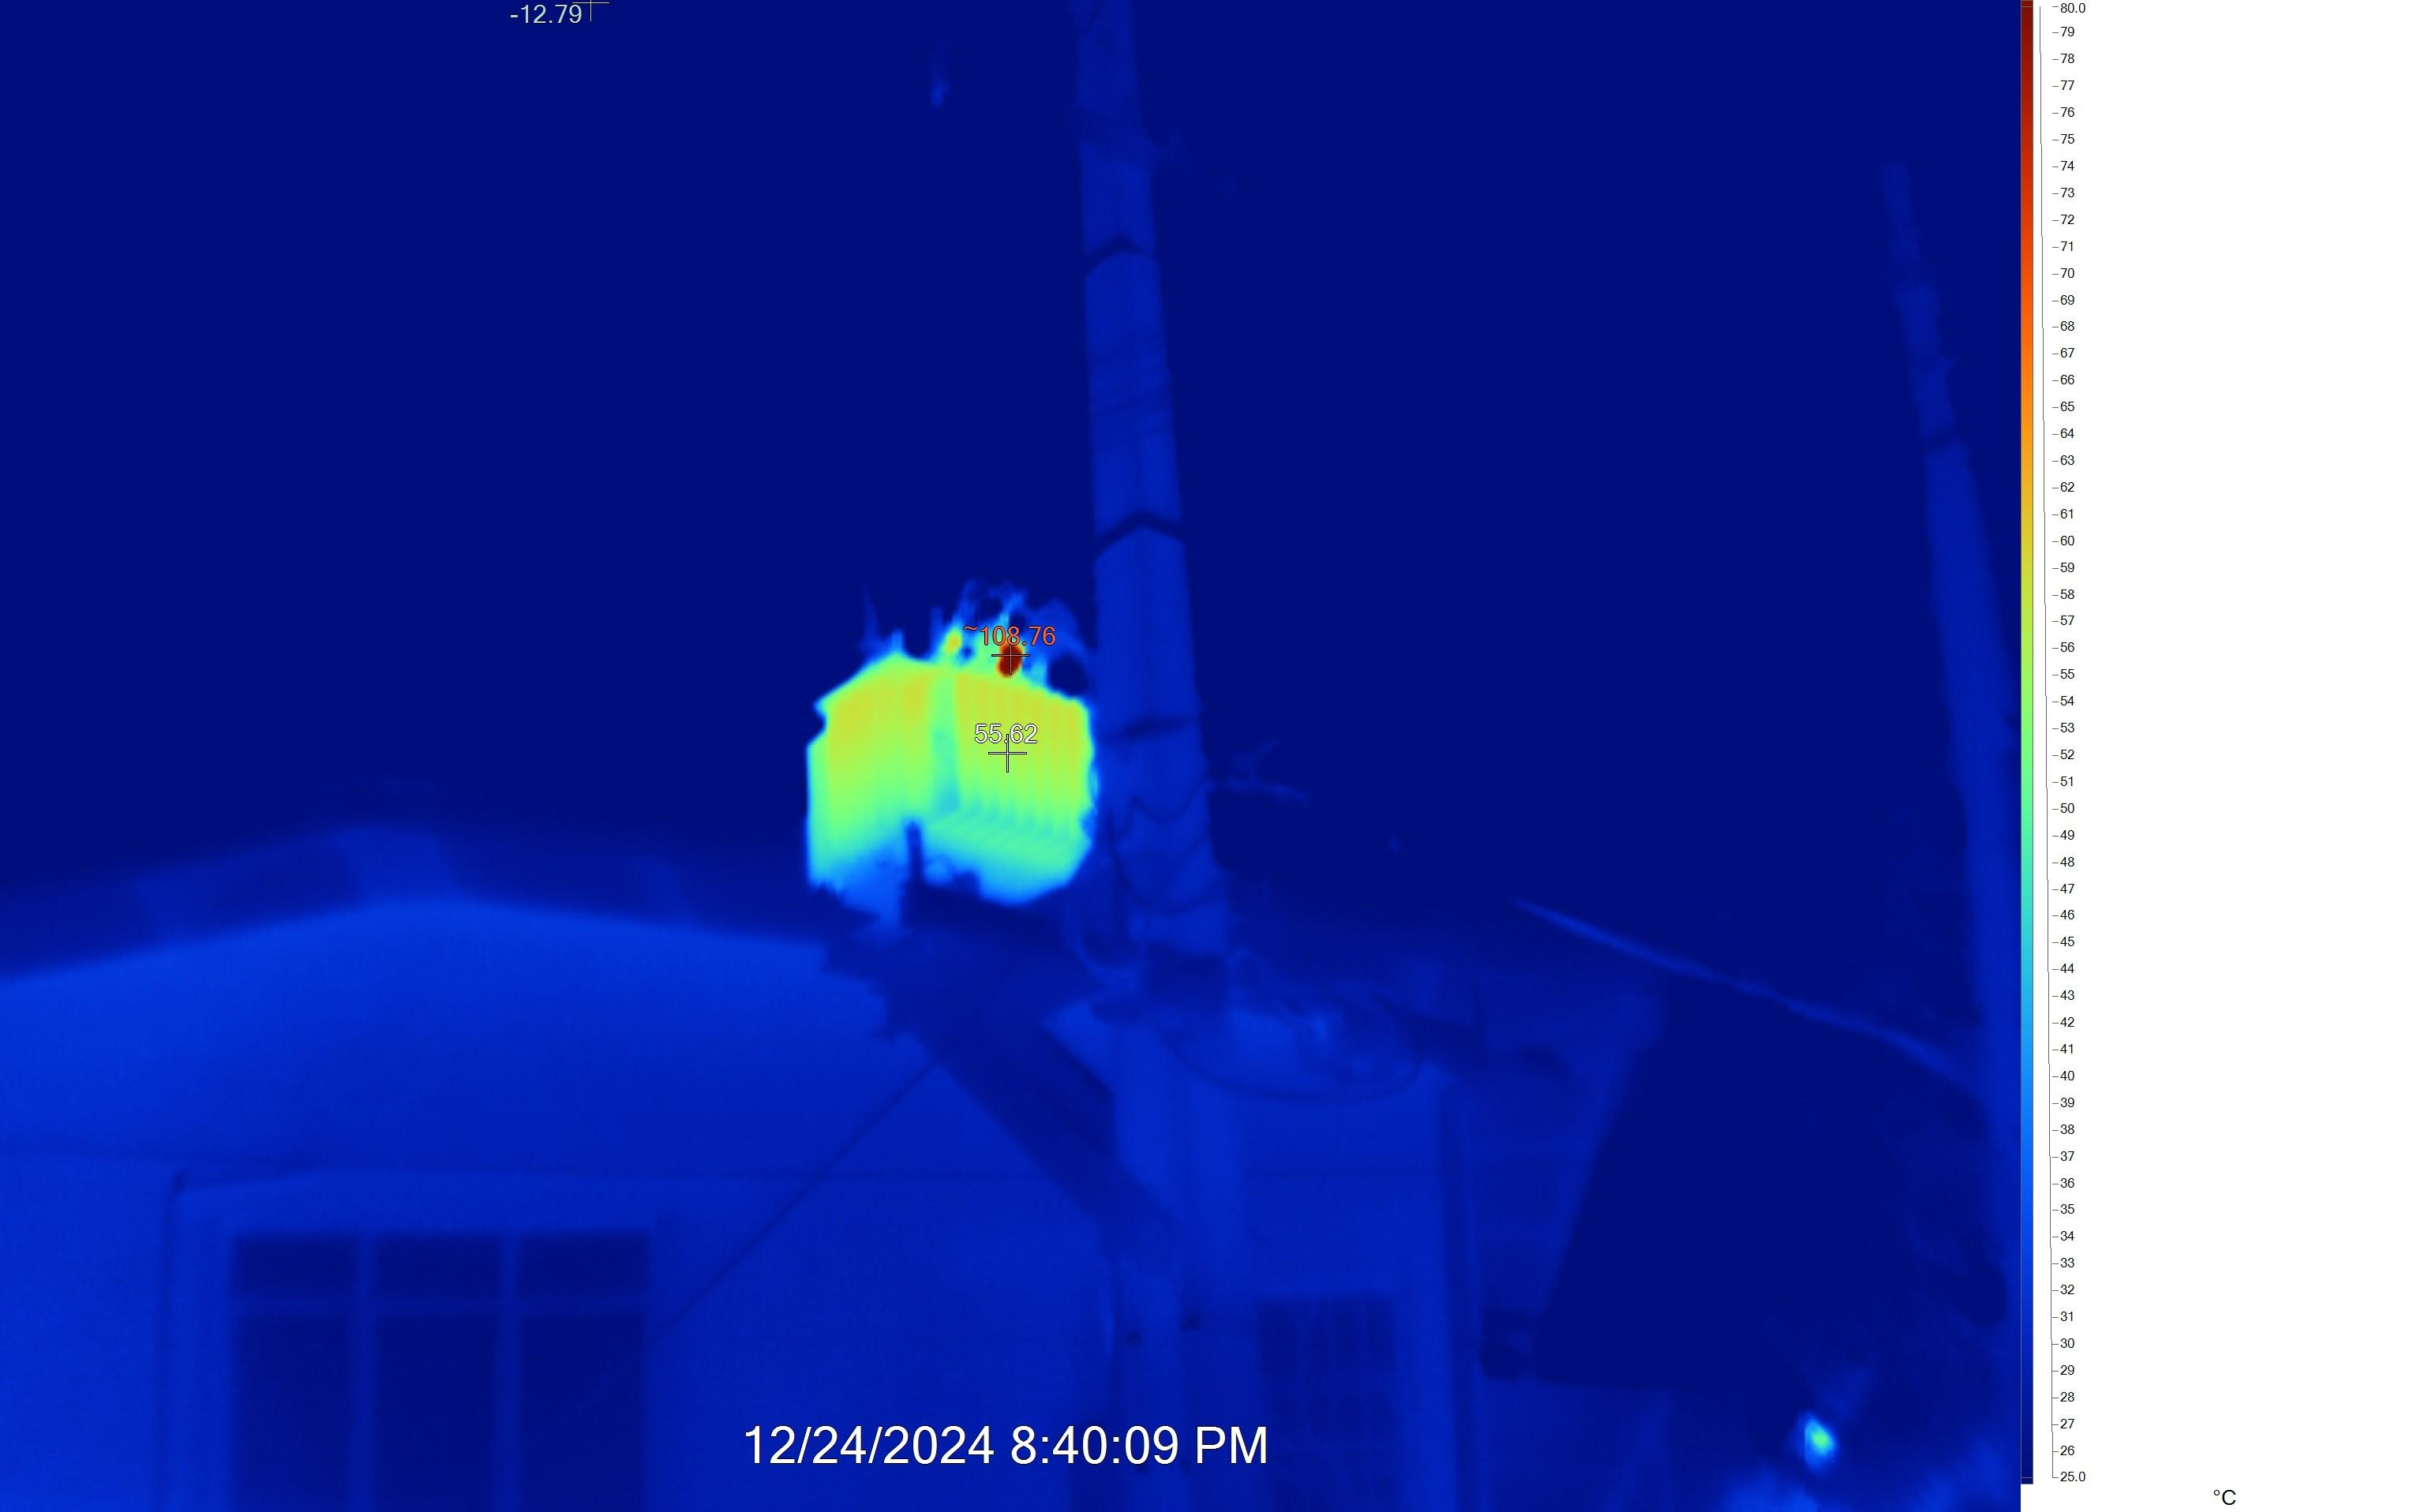Loose Joint -Faulty: (935, 624, 1069, 683)
Loose Joint -Potential: (829, 664, 1087, 885)
